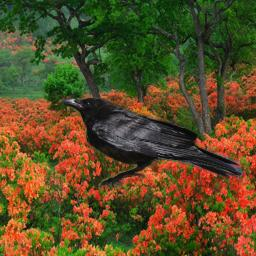Crow: (59, 96, 244, 190)
